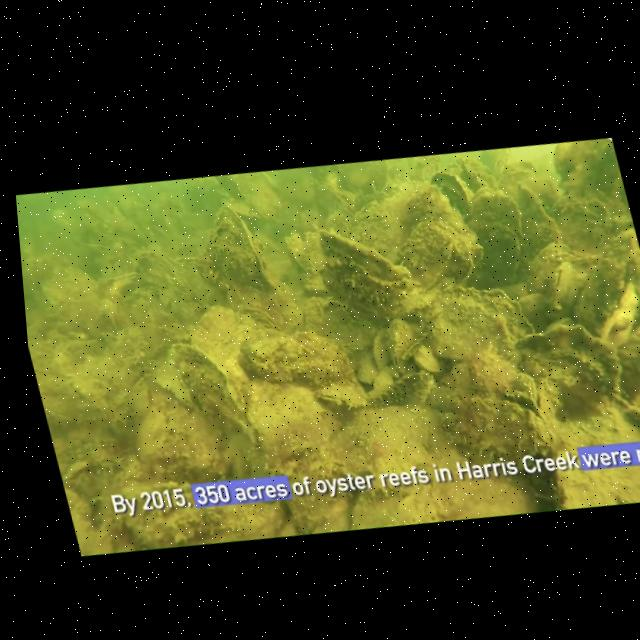Oyster-Closed: (194, 197, 278, 303), (536, 255, 594, 318)
Oyster-Indeterminate: (99, 451, 294, 566), (439, 376, 574, 516), (401, 267, 544, 381), (504, 309, 632, 413), (166, 334, 258, 446), (382, 202, 483, 294), (246, 375, 341, 466), (231, 322, 314, 390), (375, 183, 465, 239), (462, 181, 532, 252), (181, 295, 253, 363), (120, 402, 186, 471), (36, 263, 108, 324), (118, 280, 184, 345), (513, 232, 584, 292), (584, 279, 640, 351), (374, 307, 428, 379), (423, 159, 482, 218), (591, 217, 640, 288), (474, 218, 525, 285), (126, 241, 181, 298), (90, 258, 152, 304), (507, 281, 560, 329), (160, 268, 207, 316), (122, 377, 159, 421), (407, 342, 445, 380), (367, 324, 399, 369), (614, 391, 640, 446), (349, 349, 384, 388), (104, 393, 133, 435)
Oyster-Open: (306, 217, 425, 331), (540, 130, 628, 214), (315, 371, 376, 417), (316, 456, 370, 499), (236, 297, 284, 339), (59, 453, 98, 489)
